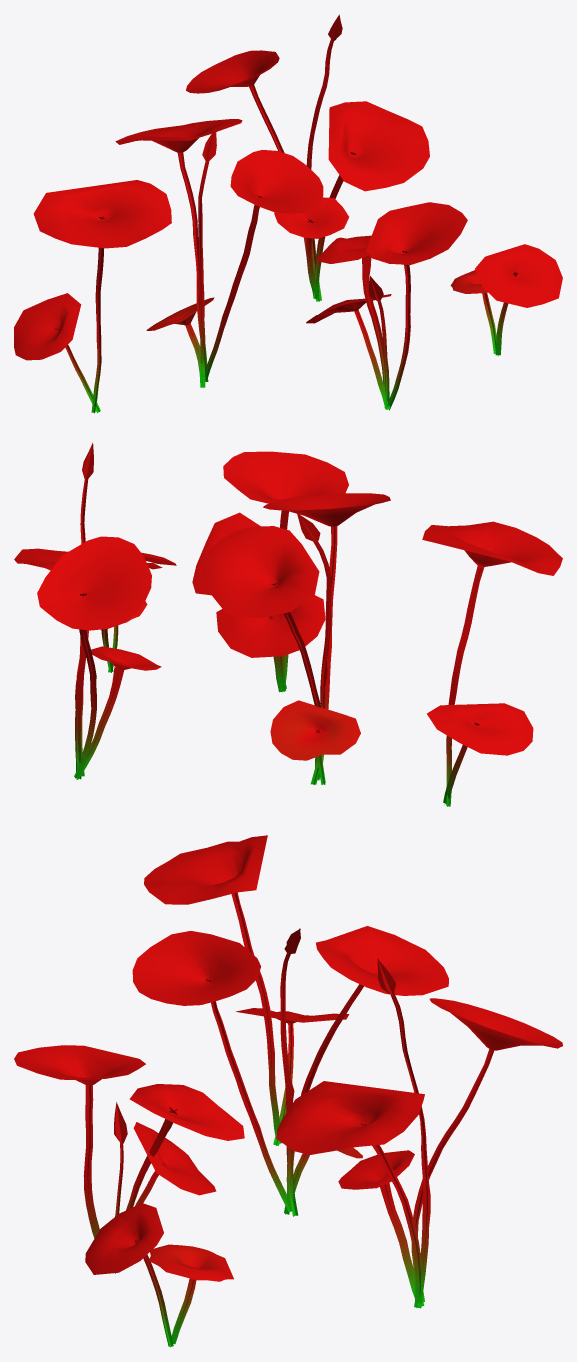
The model's file is Native Violet_LOD1_Var12_ultkcfeja.fbx.
The picture shows the model from 3 angles, top to bottom: view 1: azimuth 30°, elevation 25°; view 2: azimuth 150°, elevation 25°; view 3: azimuth 270°, elevation 25°; orthographic projection. The views are drawn at different scales.
Visible parts, largest first — view 1: _1edv_Var12_LOD1; view 2: _1edv_Var12_LOD1; view 3: _1edv_Var12_LOD1.
Boxes of the visible parts, x1=… form: _1edv_Var12_LOD1: x1=14, y1=14, x2=562, y2=413; _1edv_Var12_LOD1: x1=14, y1=442, x2=562, y2=806; _1edv_Var12_LOD1: x1=14, y1=835, x2=562, y2=1347.
Bounding box in the file's own units: 27.26 × 16.47 × 22.95.
